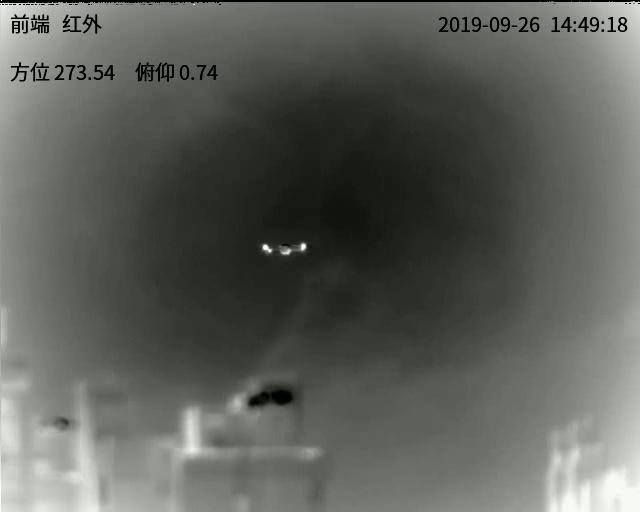DRONE: (260, 240, 309, 256)
